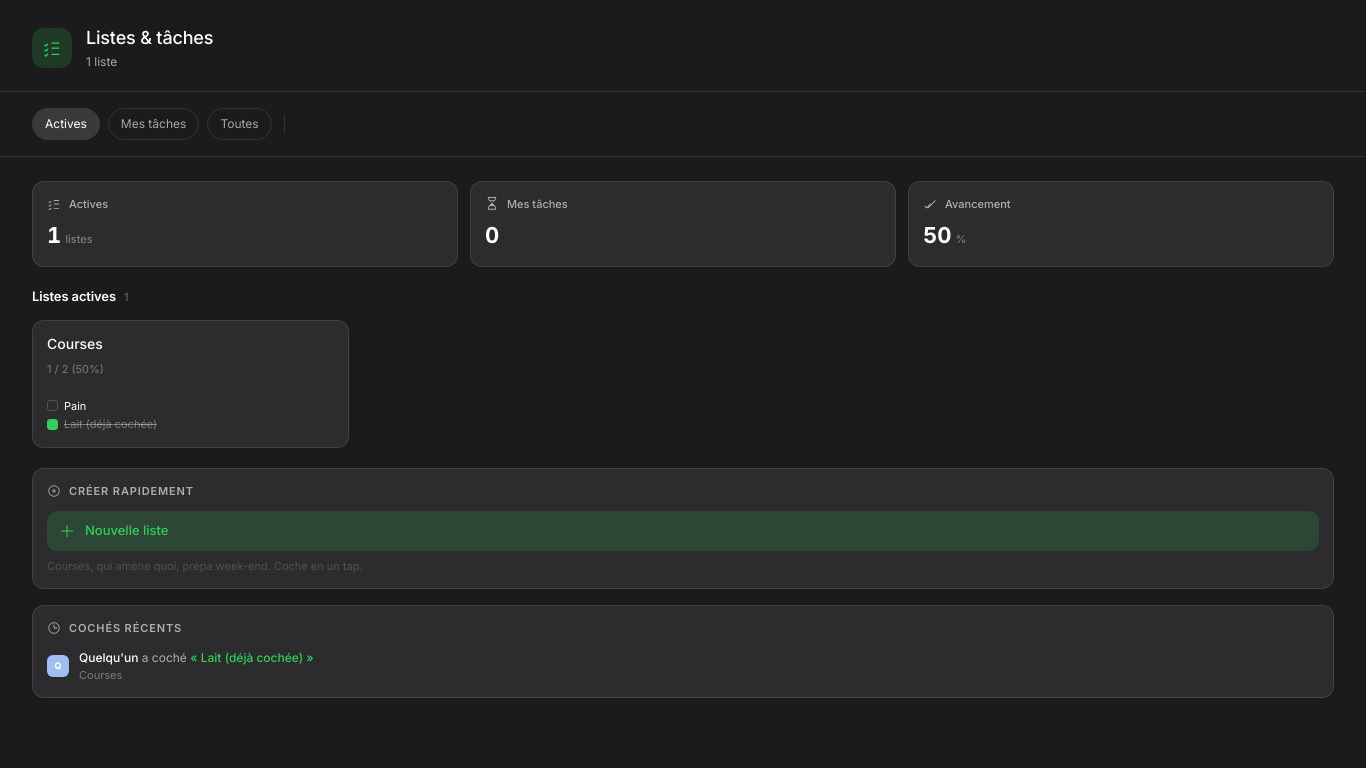
Test: repli du rail sous le point de rupture (MAN-246 phase 5) › TodosDashboard : l’action de création reste atteignable et ouvre la modale
Click the button "Nouvelle liste".
click(127, 530)  # box [47,511,1319,551]
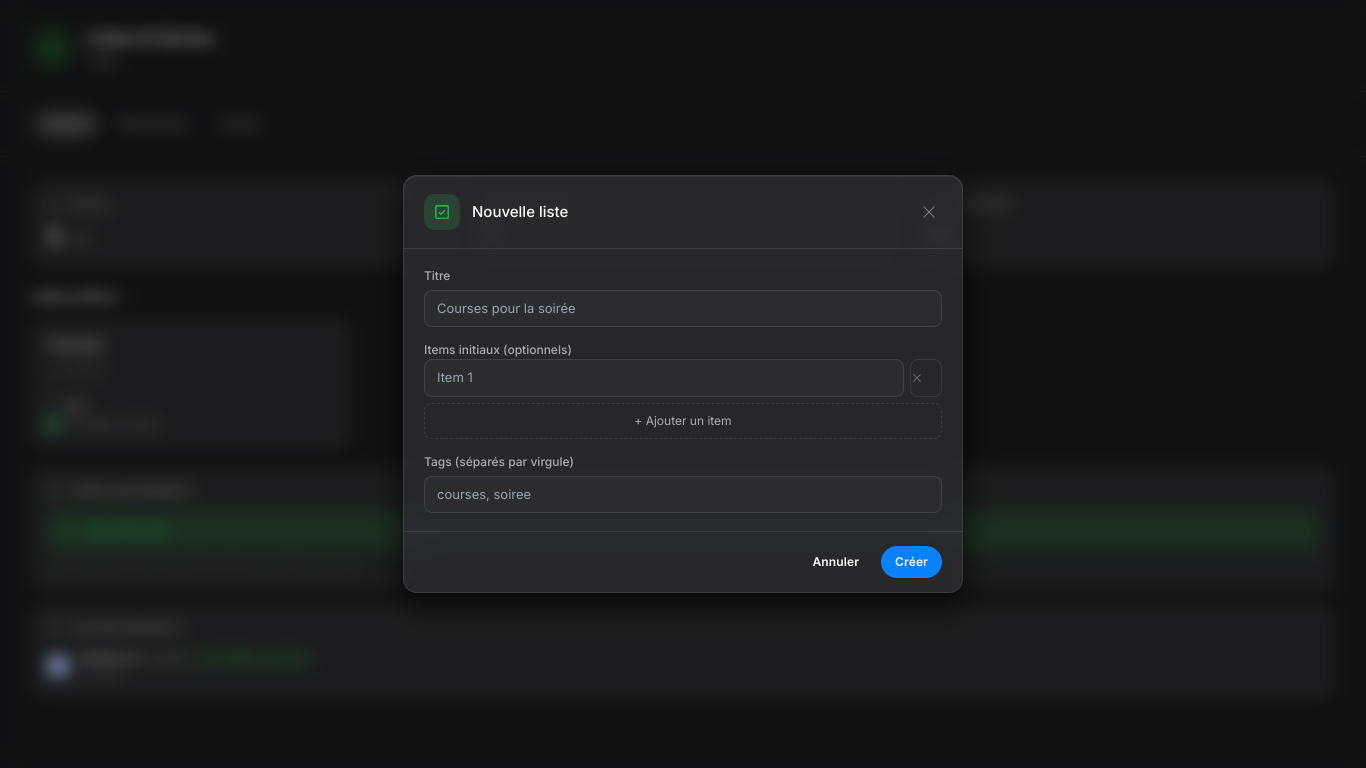
Result: the dialog is shown
